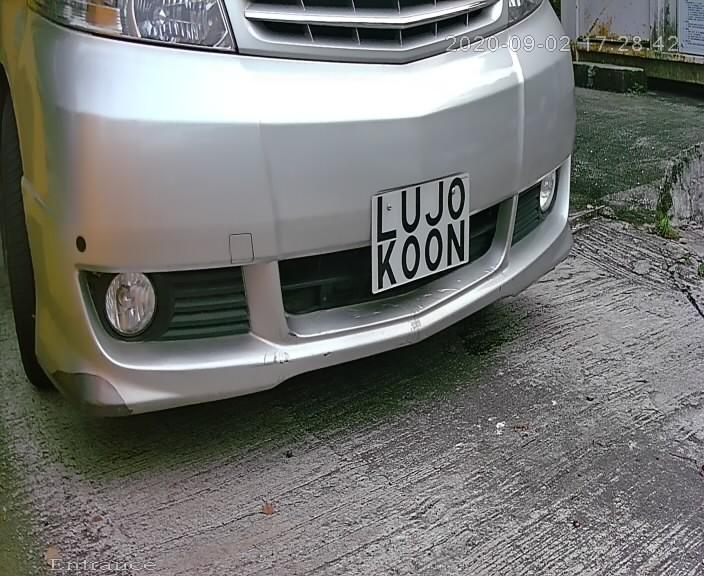License Plate: (365, 160, 485, 312)
